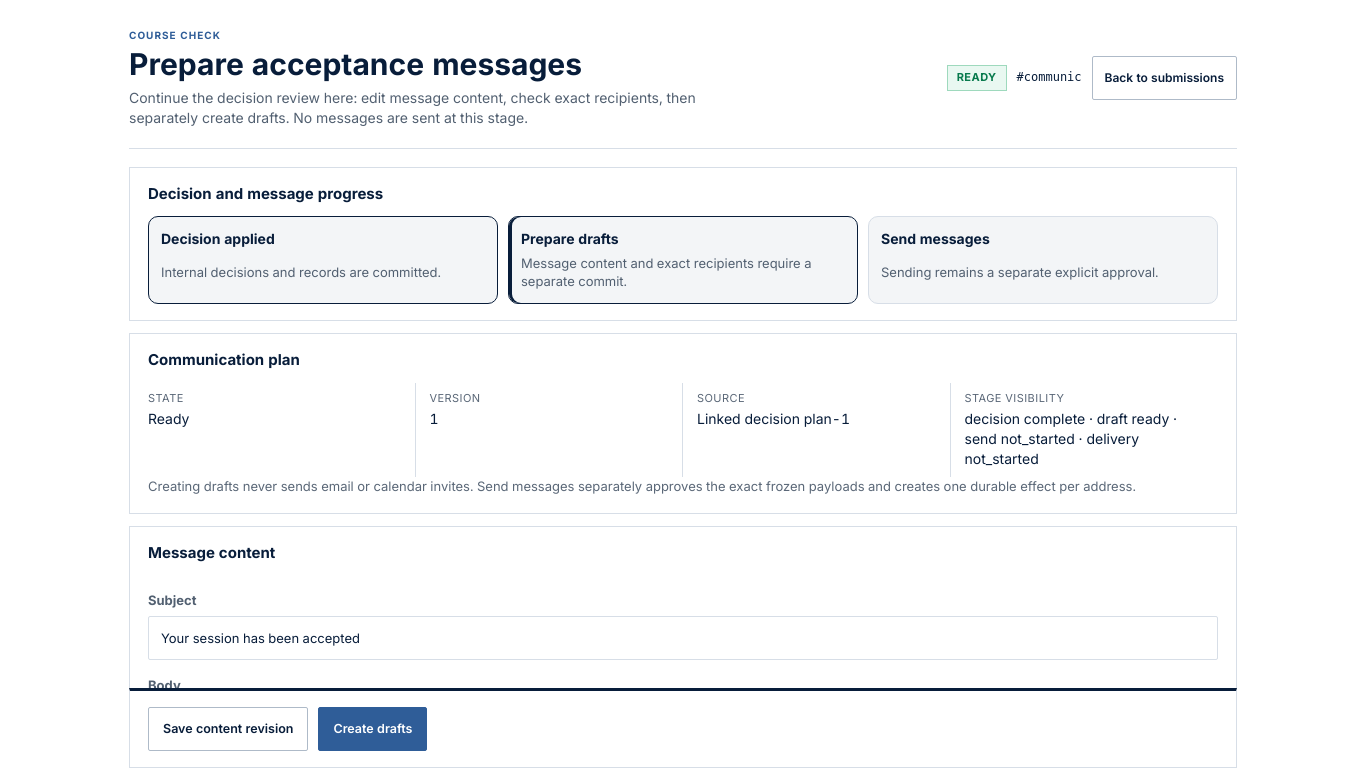
Course Check review workspace › continues directly to the send stage after freezing communication drafts
Click the button "Create drafts" at (373,729), box [318,707,428,751]
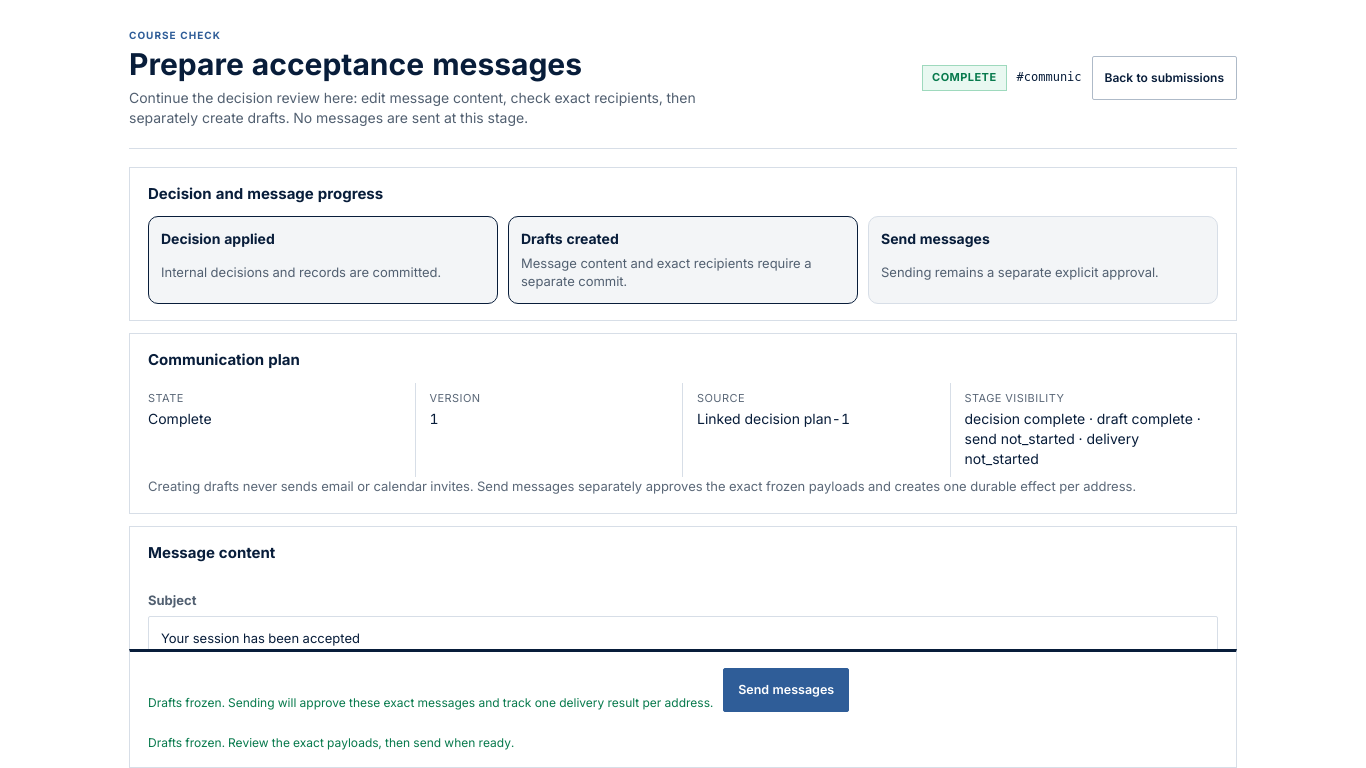
Check: the button "Send messages" is enabled, box [723,668,849,712]
